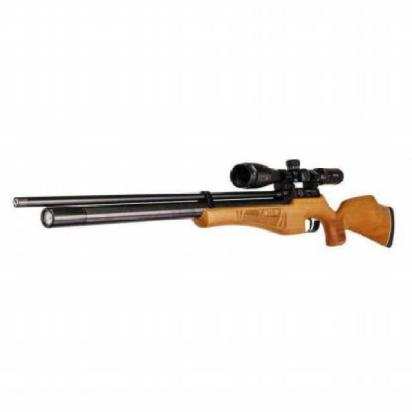Gun: (15, 154, 406, 278)
